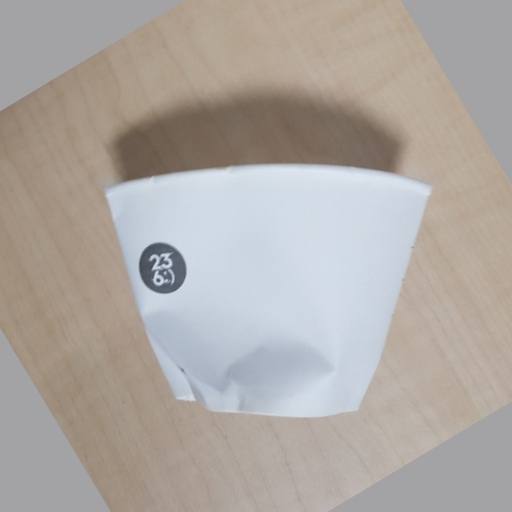Paper_1: (106, 157, 431, 422)
